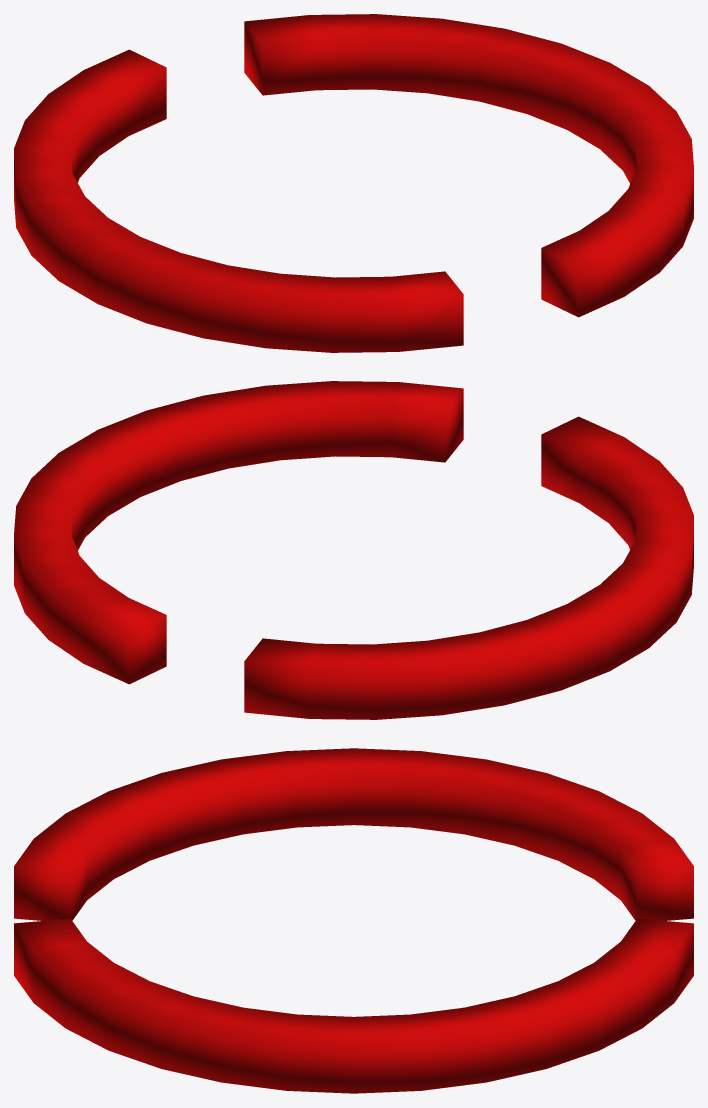
File: shield2.fbx
The picture shows the model from 3 angles, top to bottom: view 1: azimuth 30°, elevation 25°; view 2: azimuth 150°, elevation 25°; view 3: azimuth 270°, elevation 25°; orthographic projection.
Parts seen in each view (by area): view 1: shieldtwoie; view 2: shieldtwoie; view 3: shieldtwoie.
Boxes of the visible parts, <box> form: shieldtwoie: <box>14,14,693,352</box>; shieldtwoie: <box>14,381,693,719</box>; shieldtwoie: <box>14,748,693,1093</box>.
Size of the model in its own units: 2.4 by 0.2 by 2.35.
